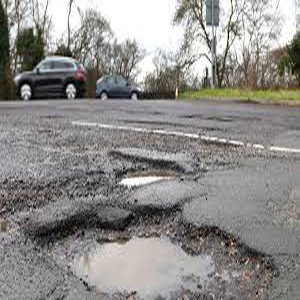pothole: (36, 200, 282, 300), (110, 164, 184, 186)
